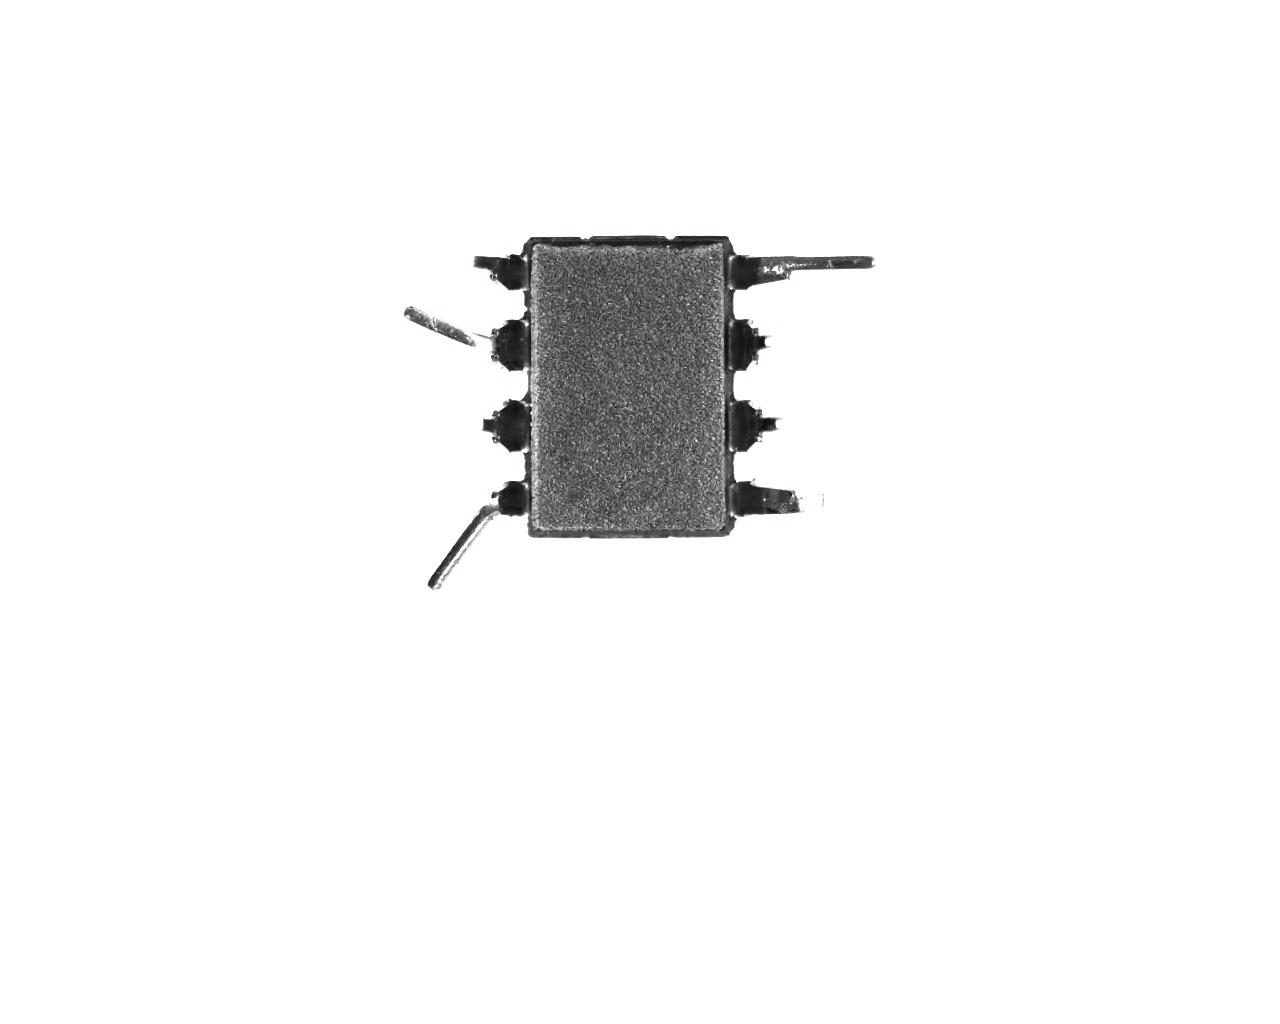Leg: (403, 460, 544, 590), (376, 301, 539, 388), (721, 241, 879, 300), (727, 479, 847, 534)
brokenLeg: (461, 393, 544, 455), (455, 241, 539, 301), (729, 393, 788, 462), (727, 316, 786, 378)
